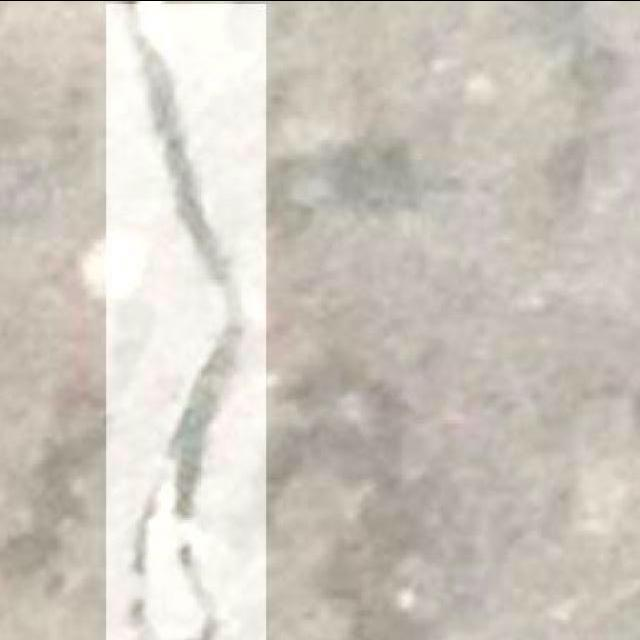SurfaceCrack: (94, 8, 280, 640)
